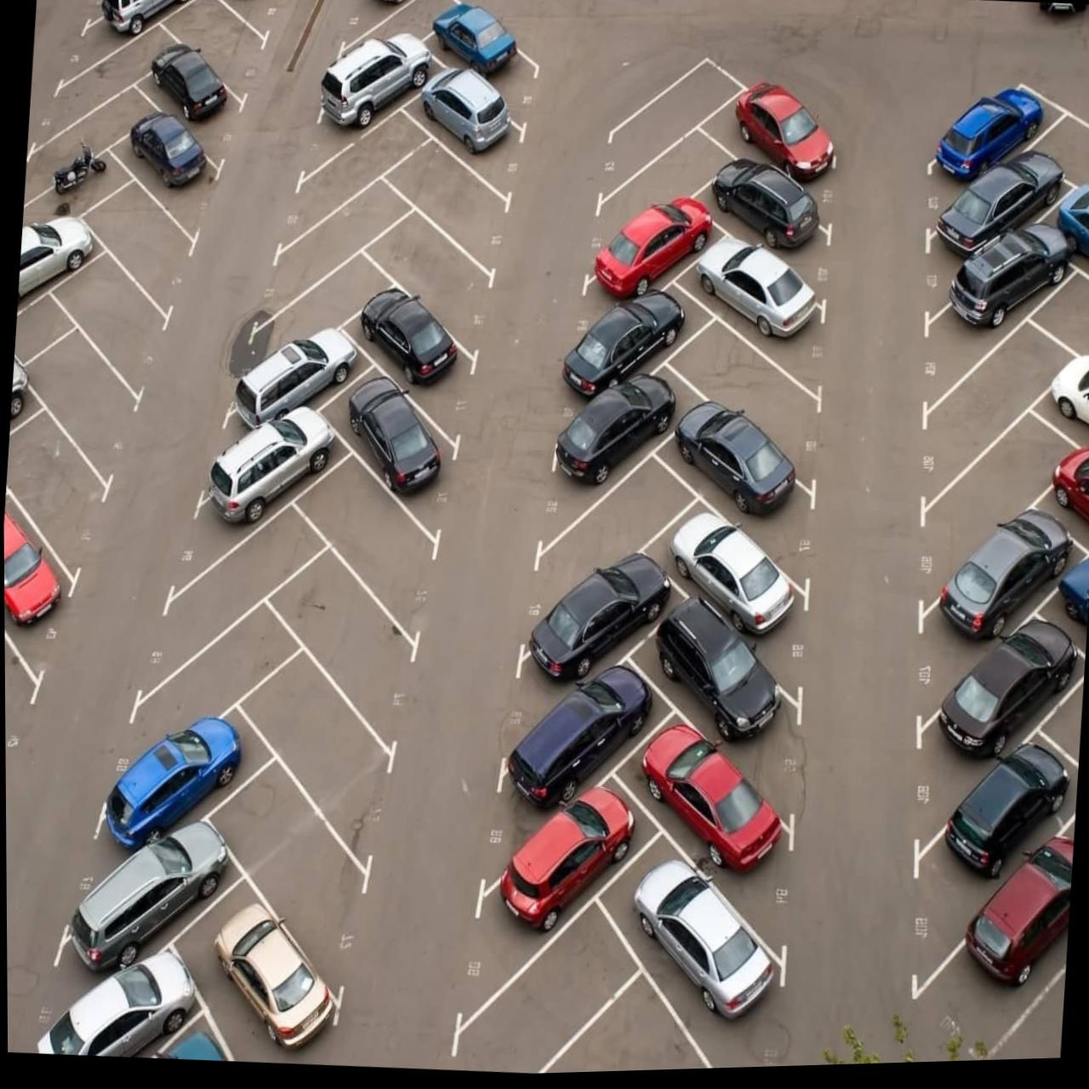cars: (625, 850, 780, 1043), (641, 711, 807, 882), (194, 891, 363, 1052), (947, 839, 1075, 1047), (32, 927, 217, 1065), (674, 381, 822, 545), (501, 755, 639, 930), (64, 816, 233, 957), (522, 540, 675, 693), (930, 488, 1043, 690), (937, 732, 1054, 921), (653, 594, 802, 740), (921, 227, 1056, 387), (188, 396, 340, 531), (660, 483, 804, 623), (945, 600, 1049, 792), (508, 653, 640, 804), (560, 275, 699, 415), (536, 359, 679, 493), (344, 376, 473, 524), (915, 64, 1055, 199), (121, 701, 242, 851), (928, 146, 1054, 286), (704, 229, 851, 349), (719, 61, 848, 189), (588, 187, 711, 310), (362, 288, 488, 408), (420, 59, 537, 176), (702, 164, 837, 265), (239, 325, 364, 429), (314, 37, 433, 143), (430, 10, 548, 107), (4, 491, 71, 650), (154, 48, 253, 155), (132, 119, 228, 228), (32, 135, 134, 228), (21, 206, 98, 312), (88, 0, 188, 49)
empty: (456, 898, 630, 1076), (245, 640, 398, 837), (529, 431, 692, 611), (161, 481, 320, 661), (297, 450, 440, 639), (147, 581, 298, 754), (284, 561, 419, 749), (682, 302, 838, 444), (221, 764, 379, 899), (926, 404, 1043, 575), (926, 329, 1034, 504), (372, 220, 512, 340), (274, 170, 406, 296), (287, 99, 417, 222), (389, 142, 527, 257), (254, 237, 373, 362), (8, 414, 111, 557), (595, 111, 723, 226), (614, 53, 719, 176), (37, 336, 131, 472), (75, 256, 161, 382), (45, 80, 147, 185), (107, 193, 198, 310), (60, 27, 169, 123), (317, 0, 444, 77), (179, 0, 279, 94)
